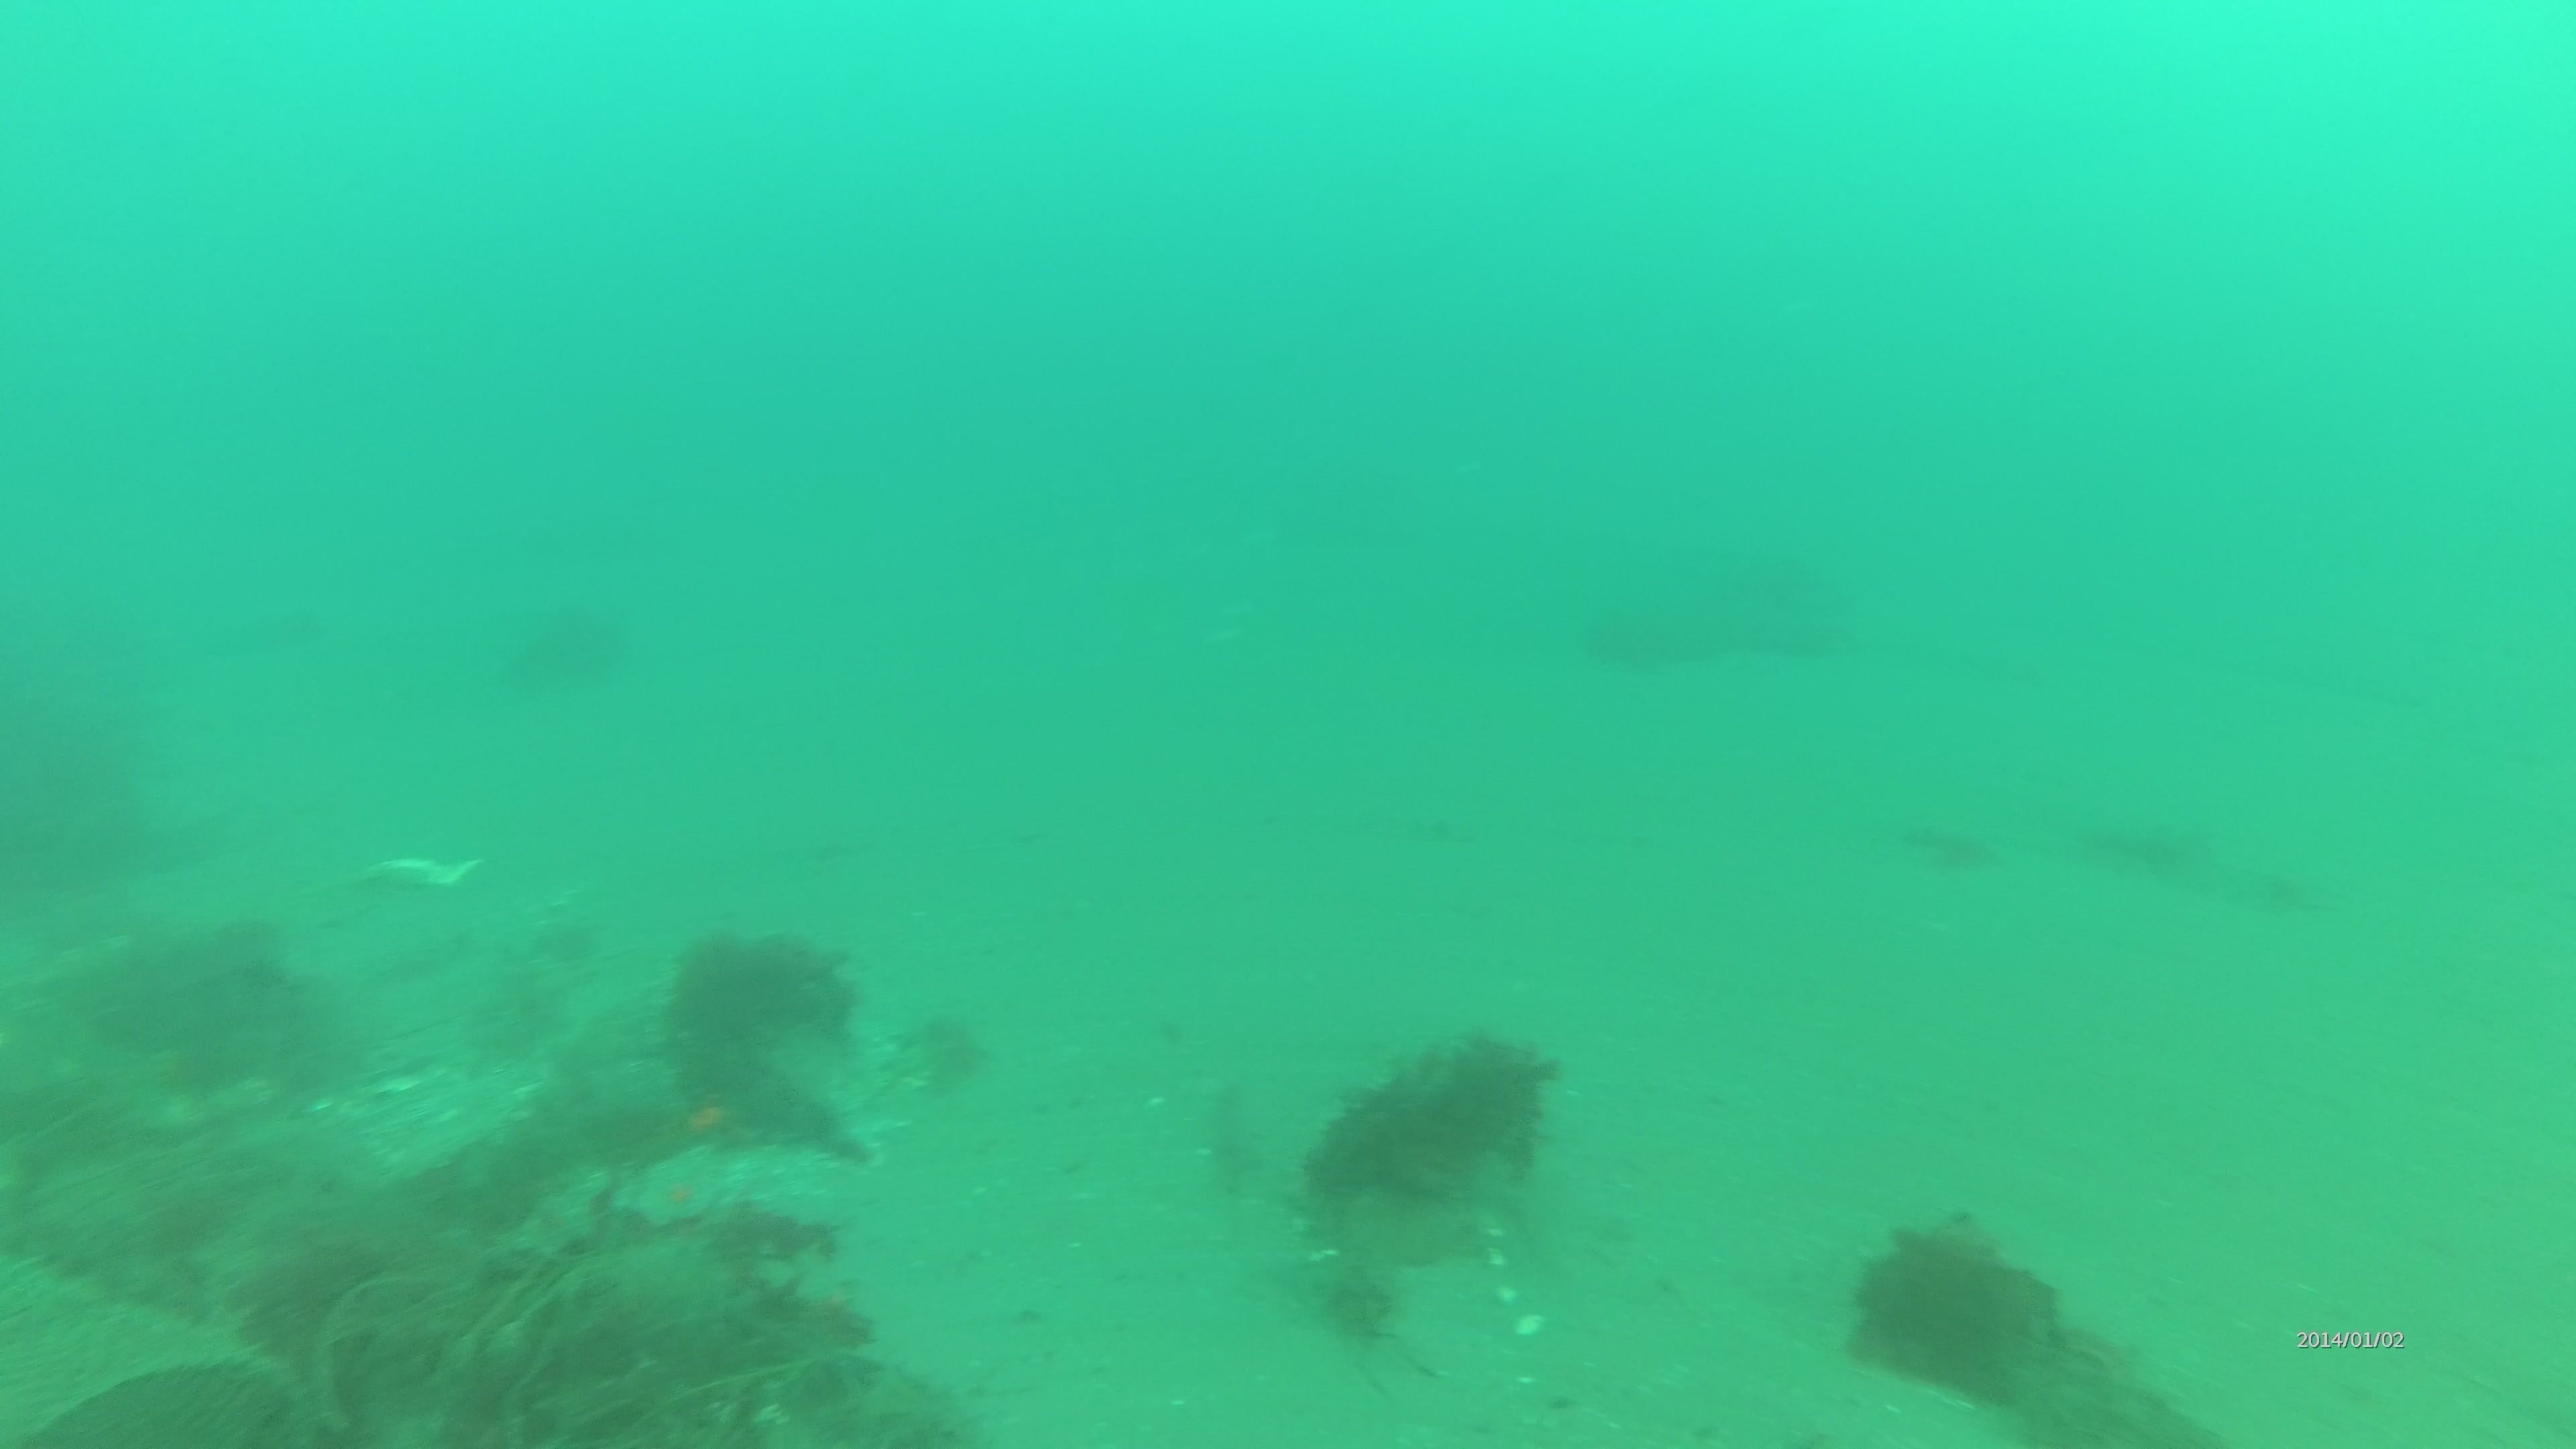starfish: (614, 1141, 741, 1233)
